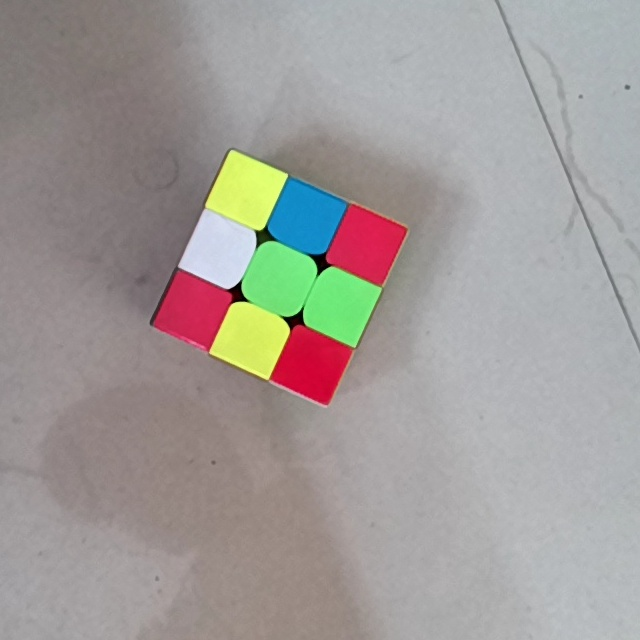tile: (228, 317, 275, 362), (199, 228, 243, 276), (283, 197, 329, 242), (316, 282, 361, 327), (344, 224, 387, 270), (257, 258, 300, 302), (222, 171, 267, 213), (170, 289, 214, 331), (289, 346, 334, 387)
